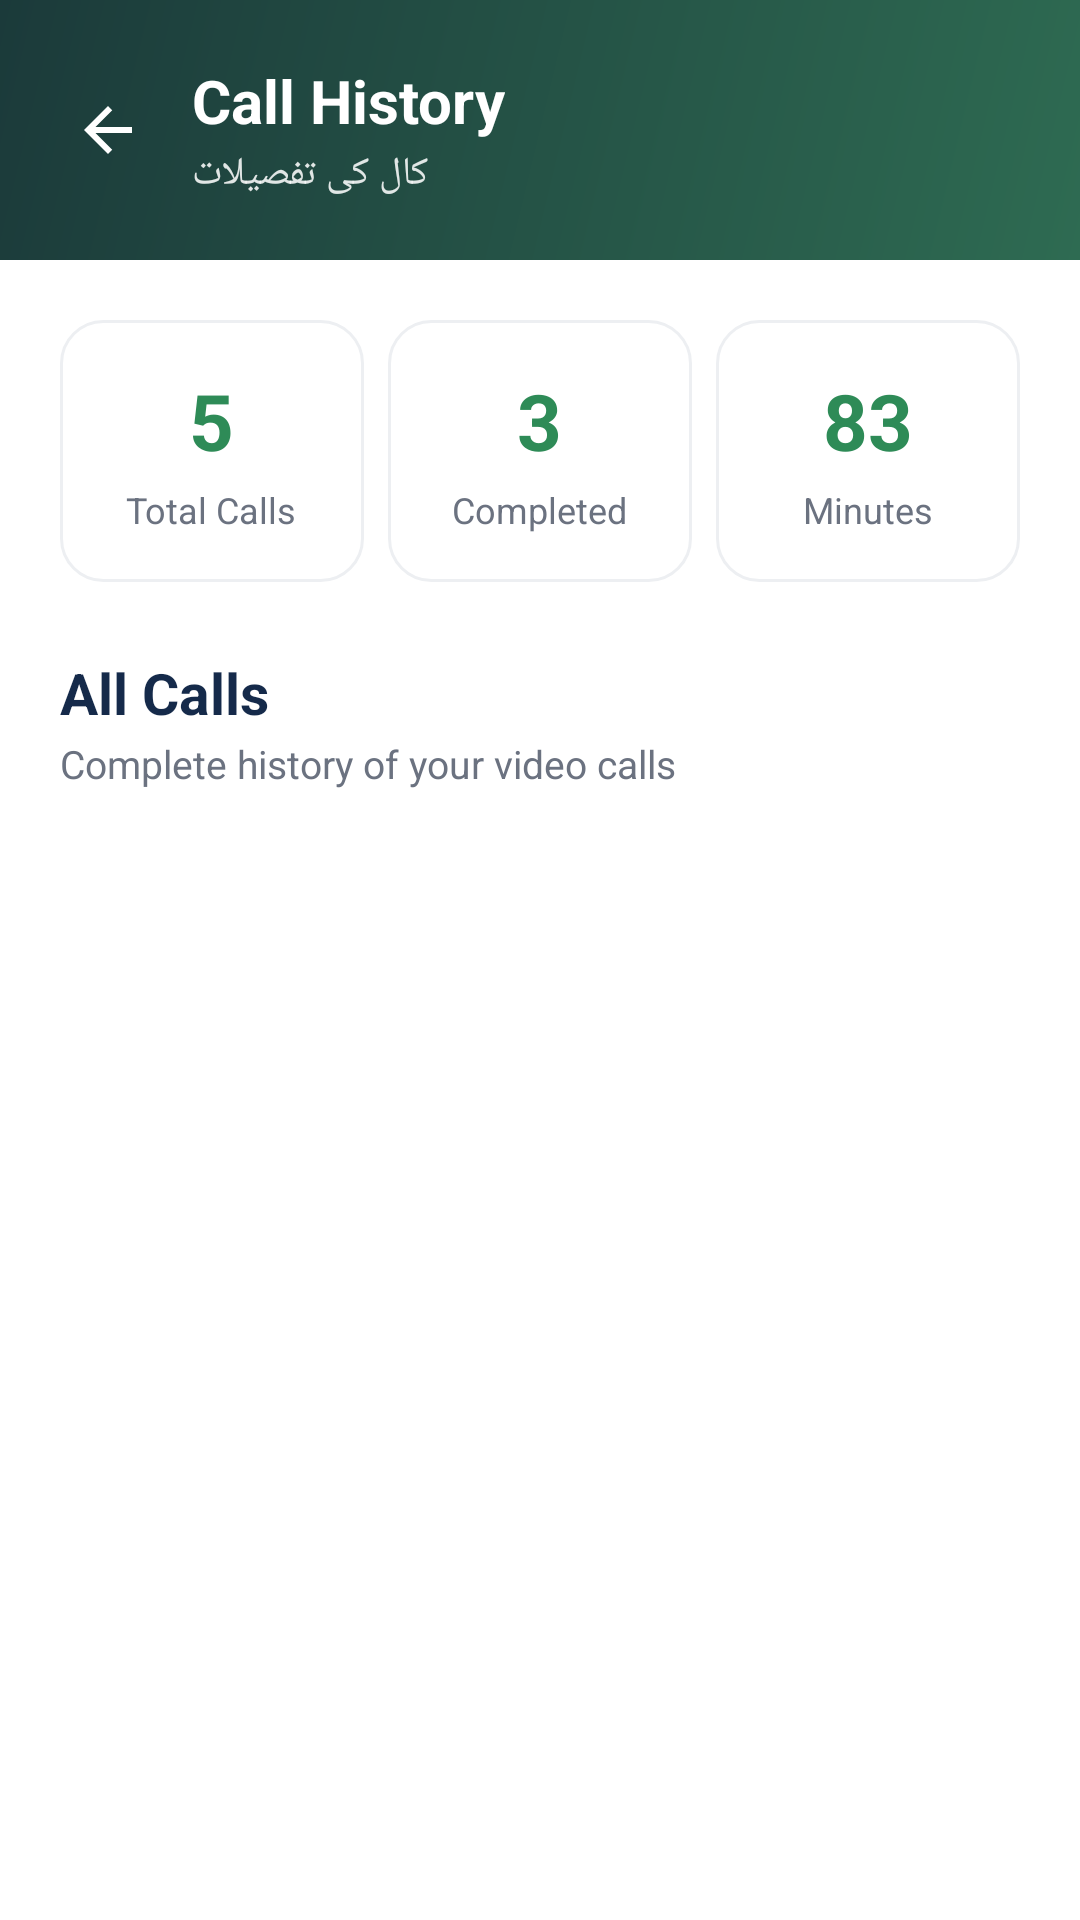

Screen size 1080px x 1920px. Icon name, then its box in pixels as detection(x1, y1, x2, y2):
back arrow: detection(84, 106, 132, 154)
